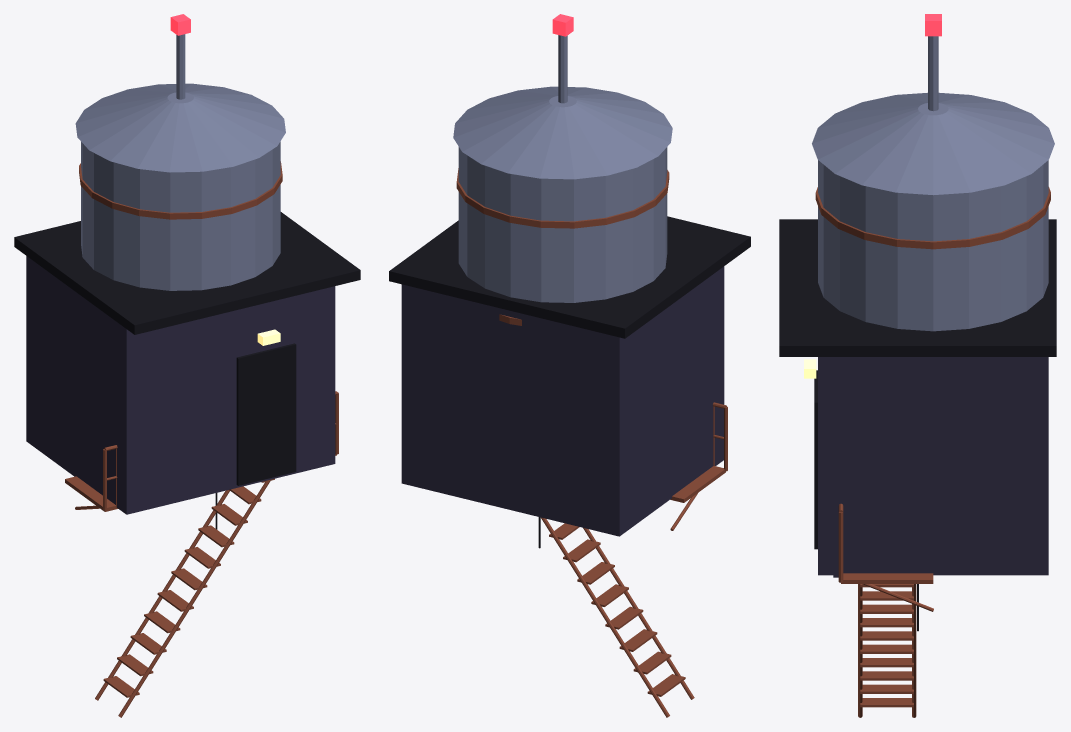
File: city-kit.glb
The picture shows the model from 3 angles, left to right: view 1: azimuth 30°, elevation 25°; view 2: azimuth 150°, elevation 25°; view 3: azimuth 270°, elevation 25°; orthographic projection. The views are drawn at different scales.
Parts seen in each view (by area): view 1: hut__concrete, tank__metal, hut__dark, escape__rust, tank__rust, antenna__metal; view 2: hut__concrete, tank__metal, hut__dark, escape__rust, tank__rust, antenna__metal; view 3: hut__concrete, tank__metal, hut__dark, escape__rust, tank__rust, antenna__metal.
Boxes of the visible parts, box(x1,y1,x2,y2) form: hut__concrete: box(26, 256, 335, 514); tank__metal: box(75, 83, 285, 290); hut__dark: box(14, 212, 360, 485); escape__rust: box(65, 391, 338, 717); tank__rust: box(79, 161, 282, 219); antenna__metal: box(176, 34, 185, 99); hut__concrete: box(401, 266, 724, 536); tank__metal: box(453, 86, 672, 302); hut__dark: box(389, 216, 750, 338); escape__rust: box(541, 402, 727, 717); tank__rust: box(456, 168, 669, 325); antenna__metal: box(558, 35, 567, 103); hut__concrete: box(818, 357, 1048, 575); tank__metal: box(812, 92, 1054, 331); hut__dark: box(779, 219, 1056, 549); escape__rust: box(838, 503, 933, 717); tank__rust: box(815, 187, 1050, 249); antenna__metal: box(928, 36, 938, 111).
Size of the model in its own units: 4.06 by 10.78 by 3.6.
